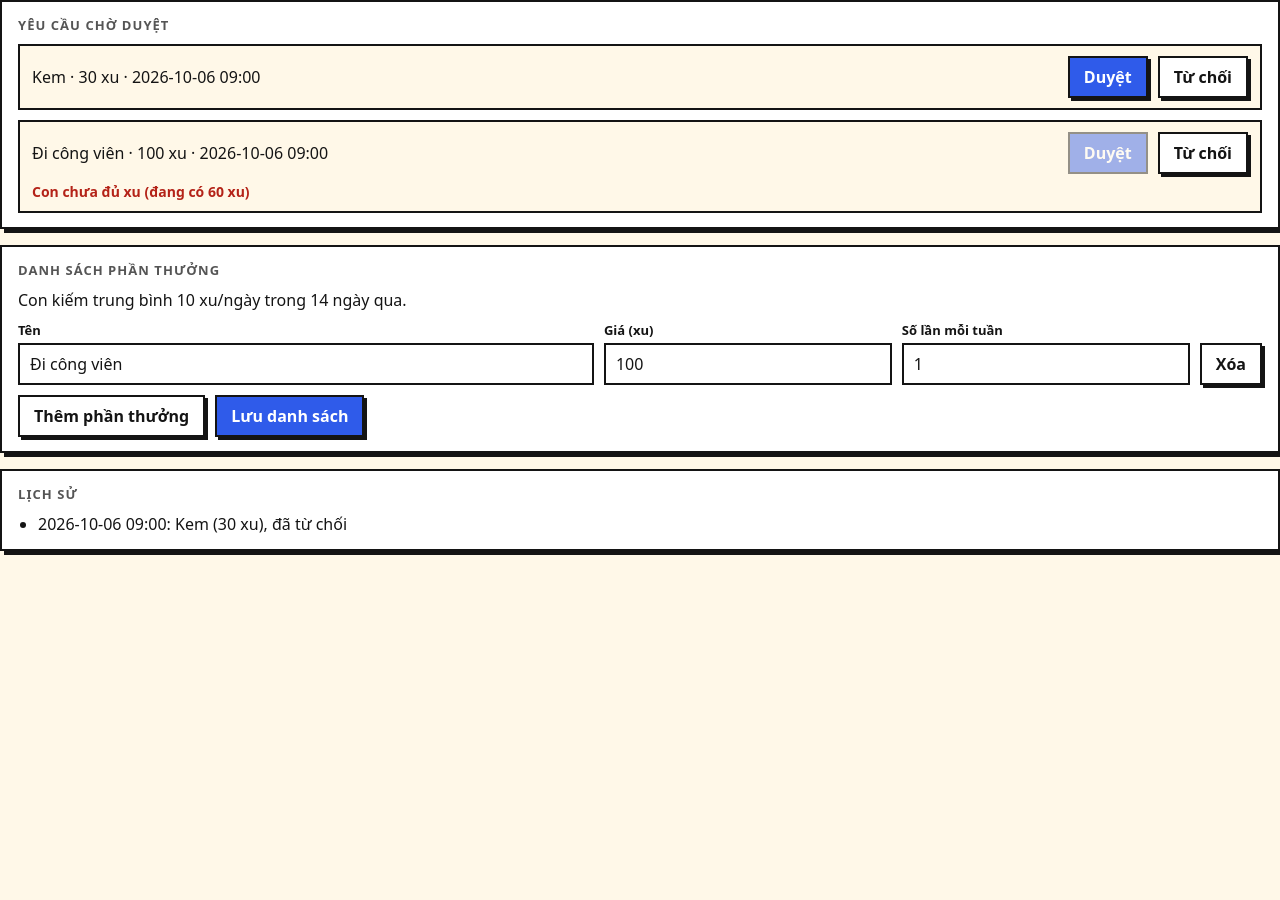
Scenario: ParentRewards › edits and saves the reward list
Click the button "Thêm phần thưởng".
click(112, 416)  # box [18,395,205,437]
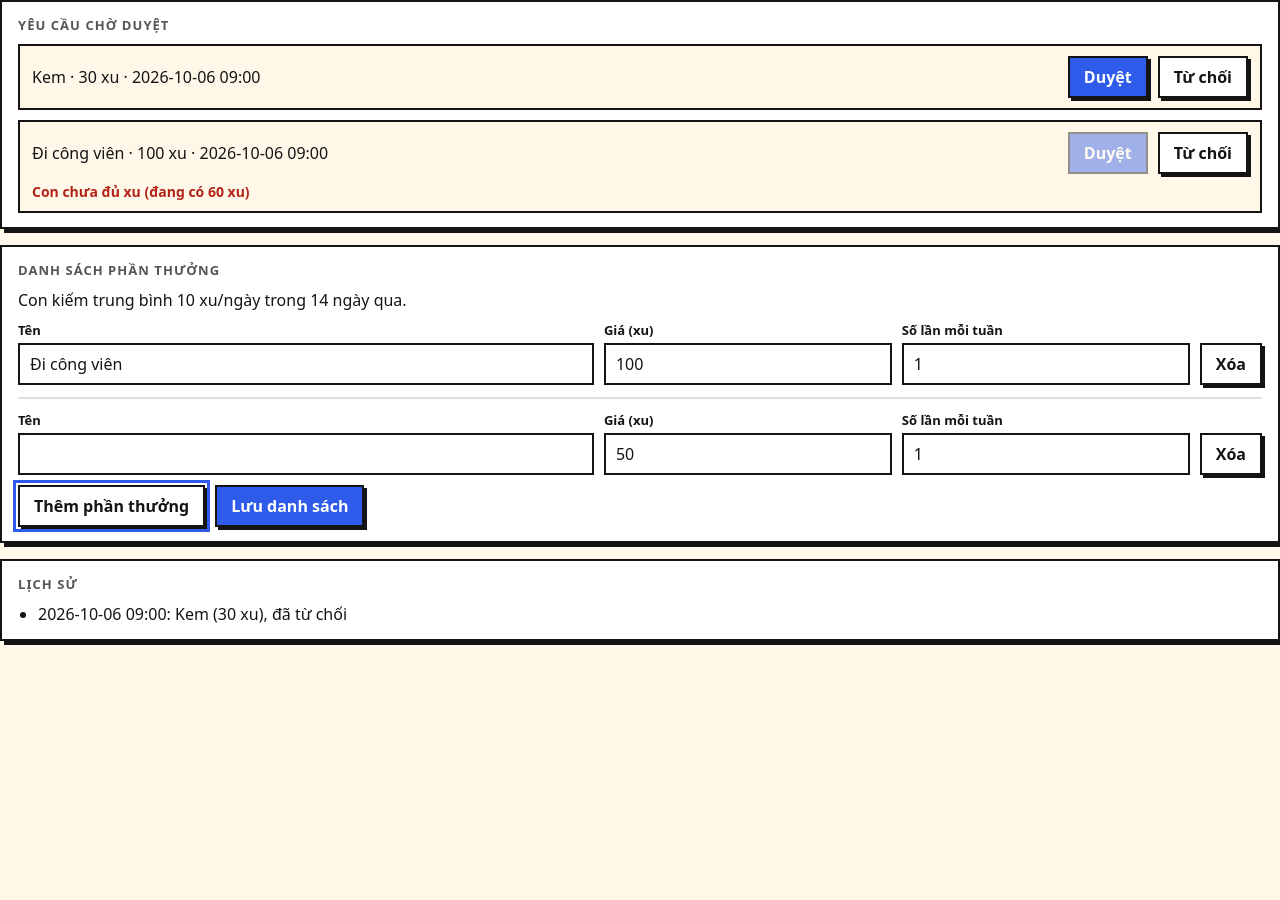
Type "Đọc truyện" into the 2nd field labelled "Tên".
click(306, 454); type("Đọc truyện")  # box [18,433,594,475]
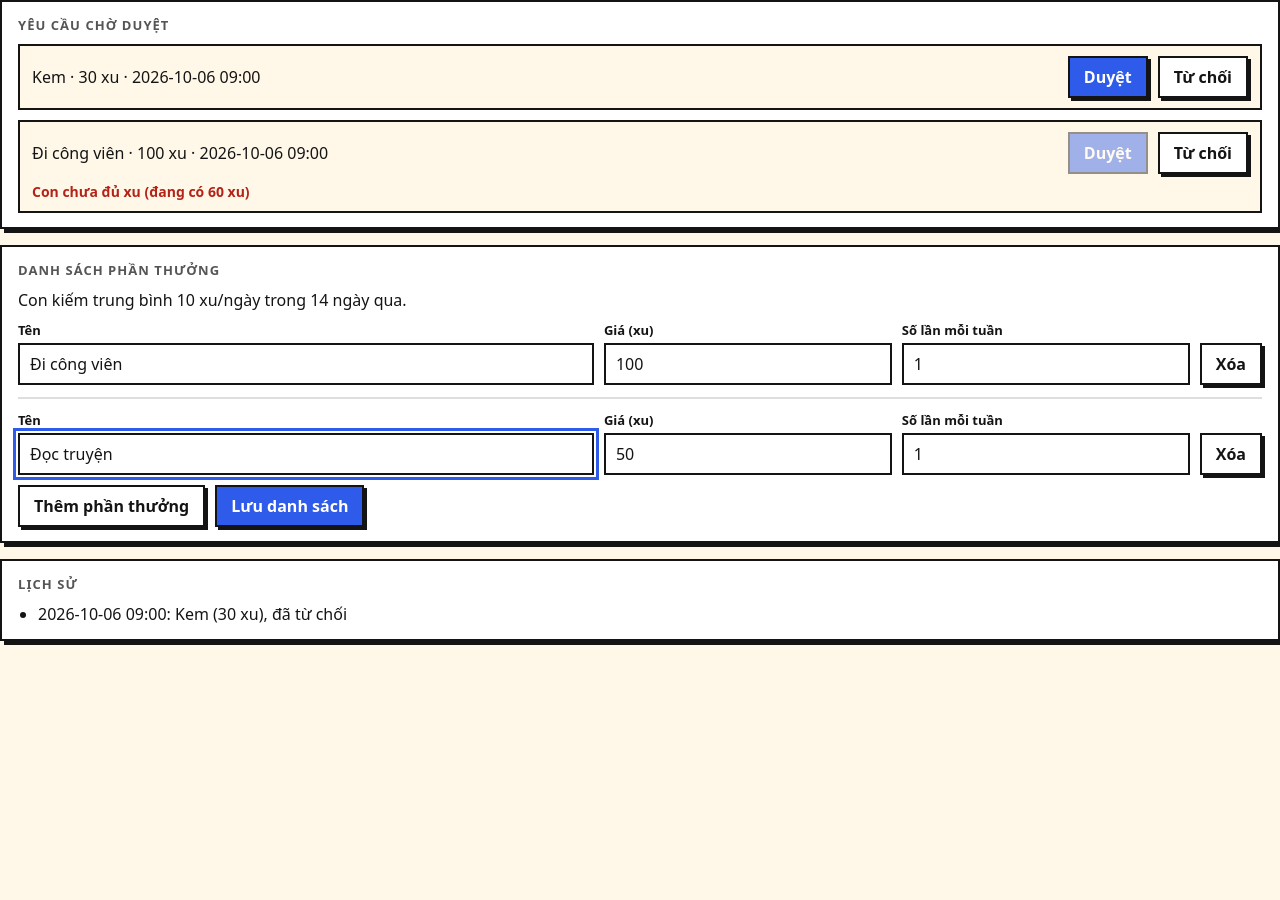
Replace the text in the 2nd number field labelled "Giá (xu)" with "40" at (748, 454), box [604,433,892,475]
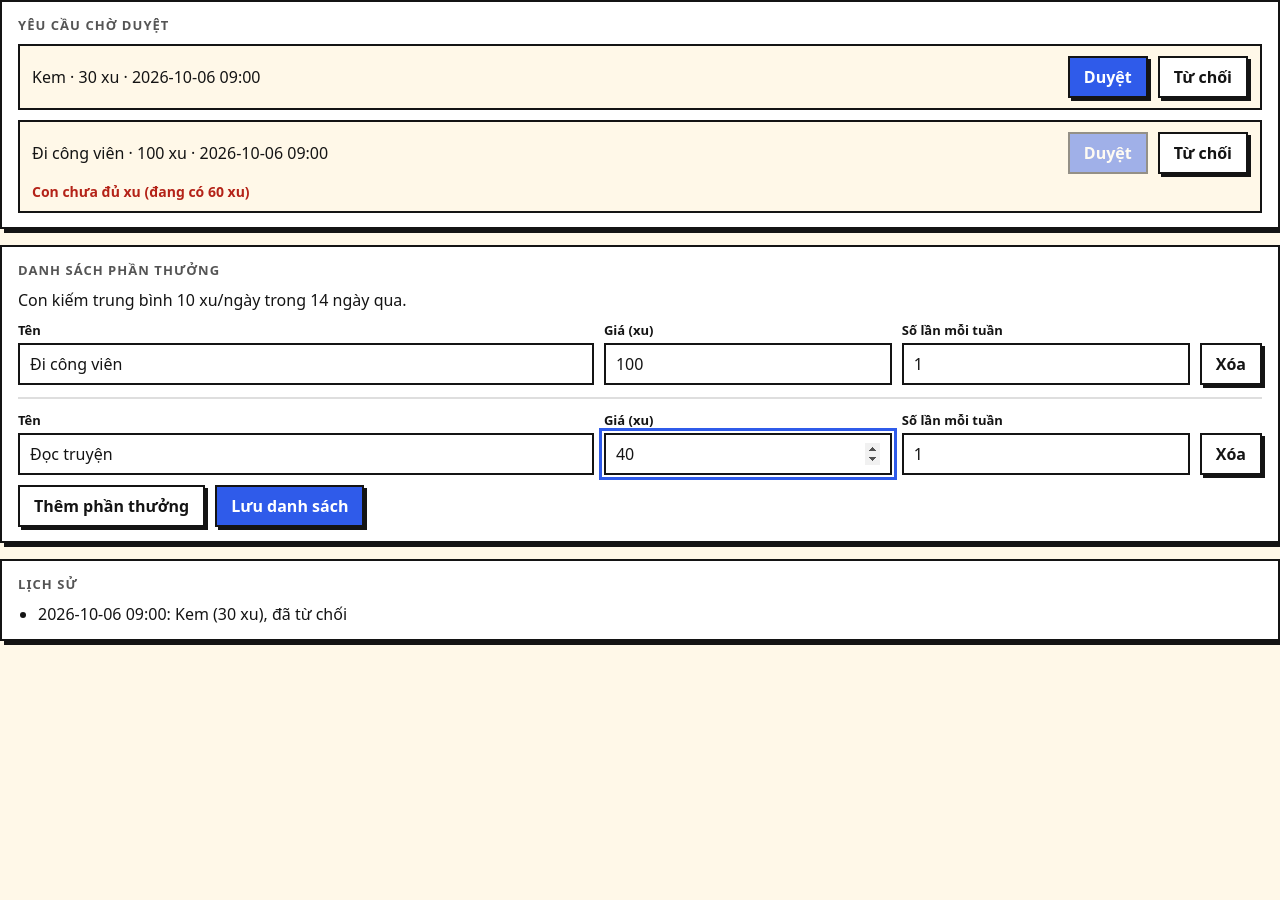
Click the 1st button "Xóa".
click(1231, 364)  # box [1200,343,1262,385]
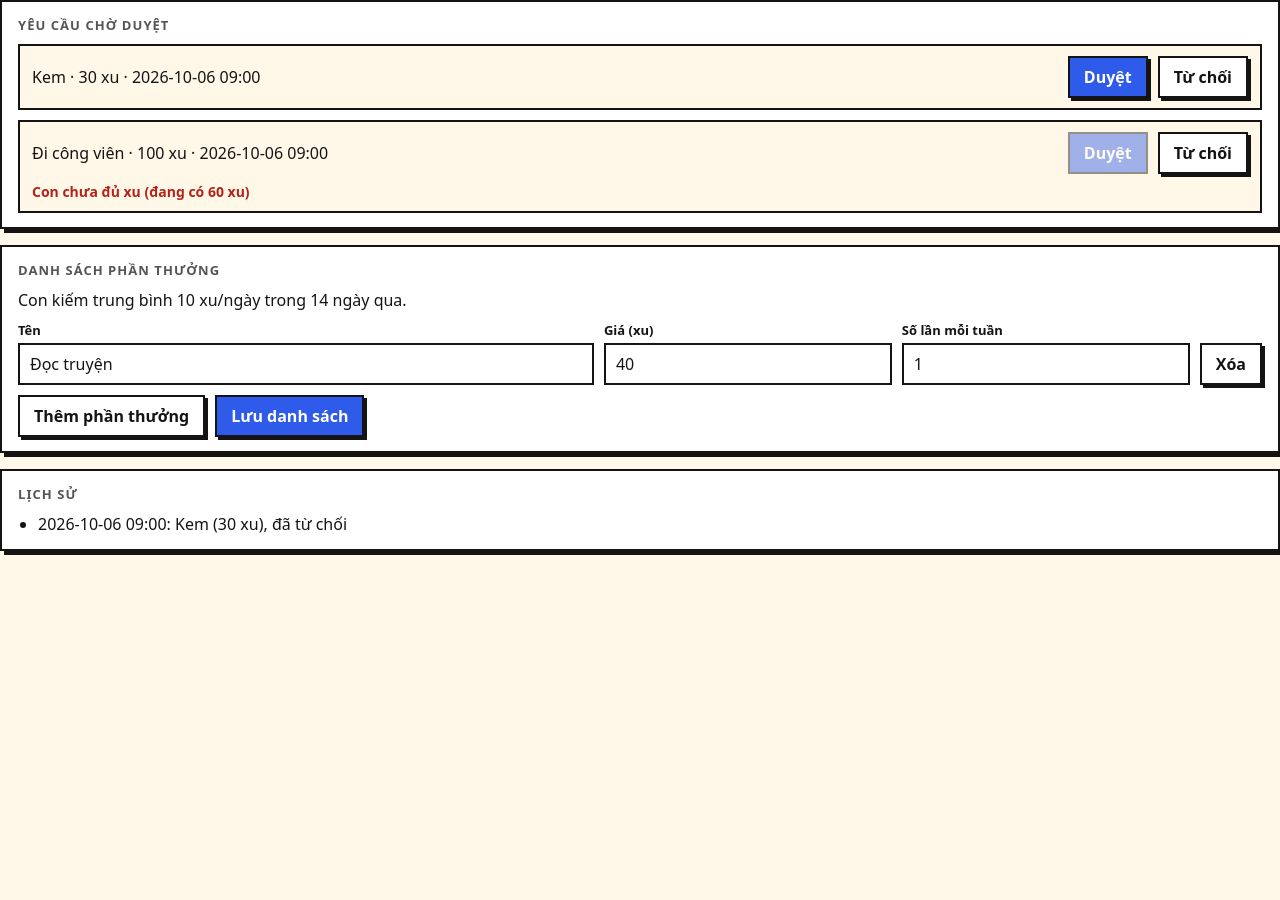
Click the button "Lưu danh sách".
click(290, 416)  # box [215,395,364,437]
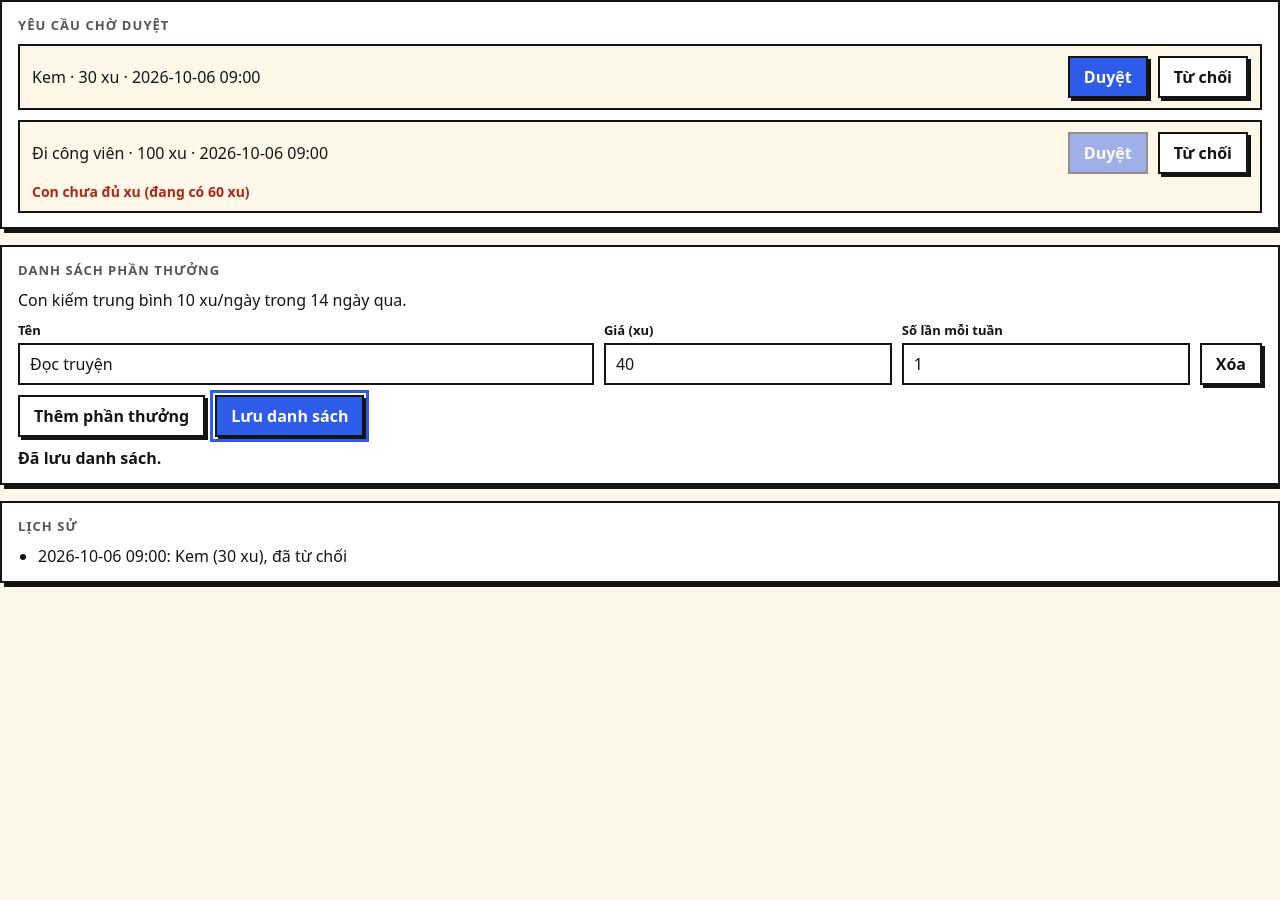
Expected: the message reads "Đã lưu danh sách.", [18,447,161,469]
